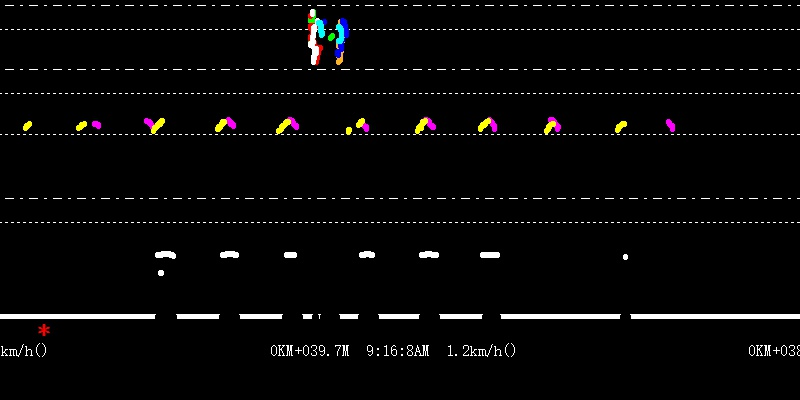J: (305, 1, 348, 64)
y_p: (137, 111, 505, 268)
